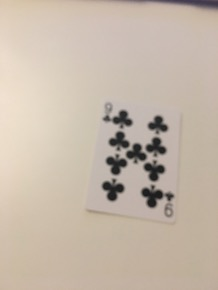NineOfClubs: (77, 96, 185, 235)
